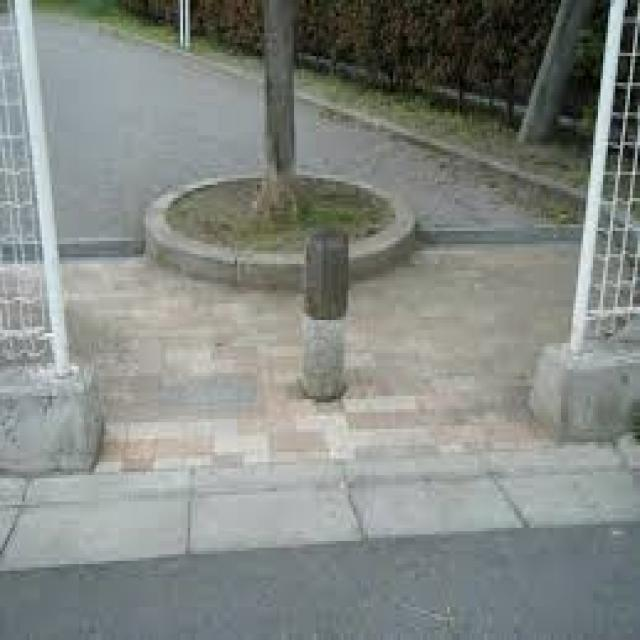bollard: (295, 210, 351, 406)
